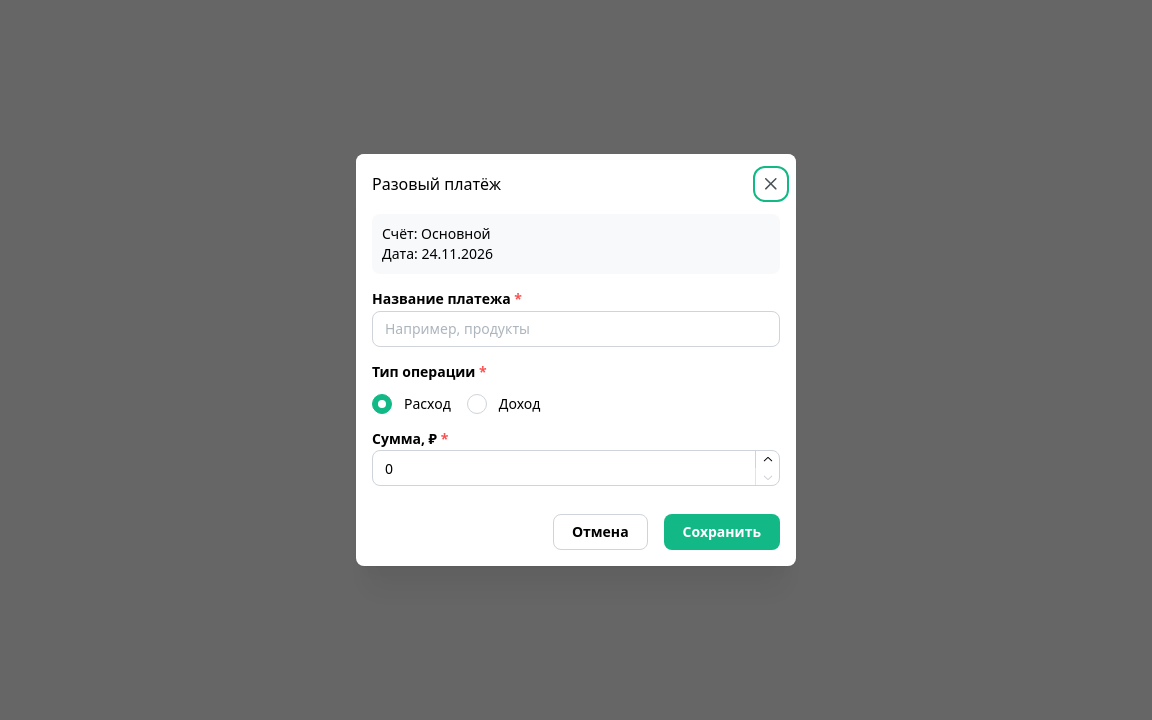
Test: InstantPaymentModal › требует название и положительную сумму
Click the button "Сохранить" at (722,532), box [664, 514, 780, 550]
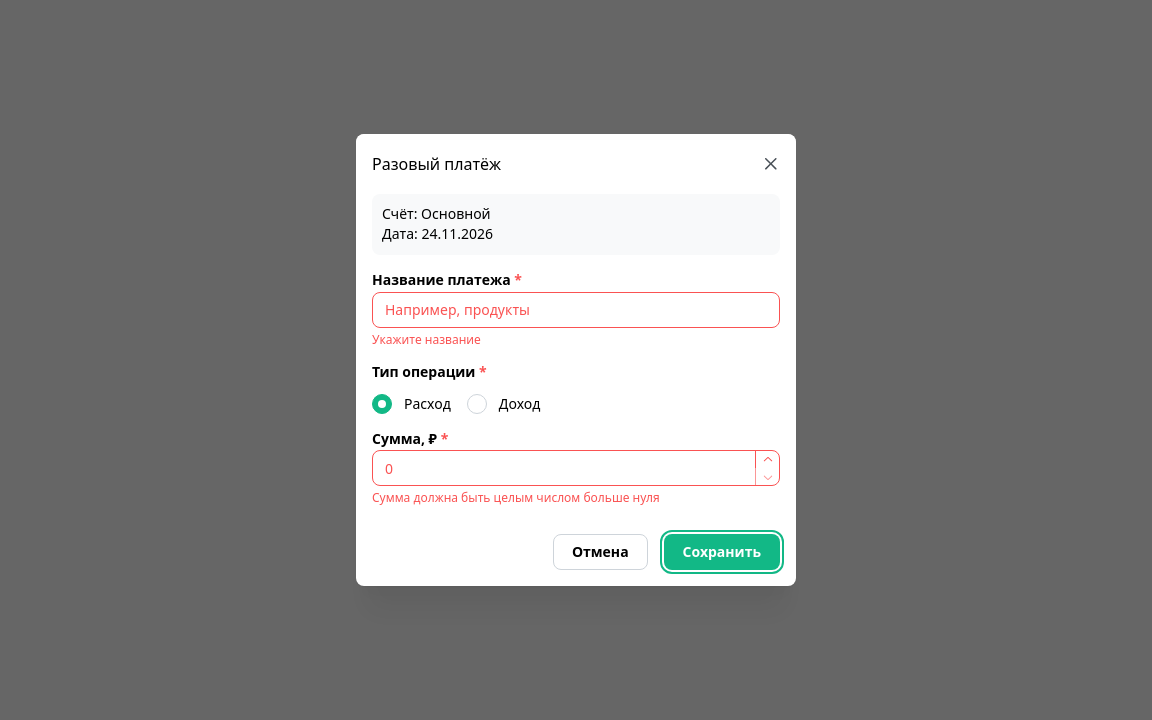
Result: the text "Укажите название" is shown at [372, 330, 481, 348]
Result: the text "Сумма должна быть целым числом больше нуля" is shown at [372, 490, 660, 506]
